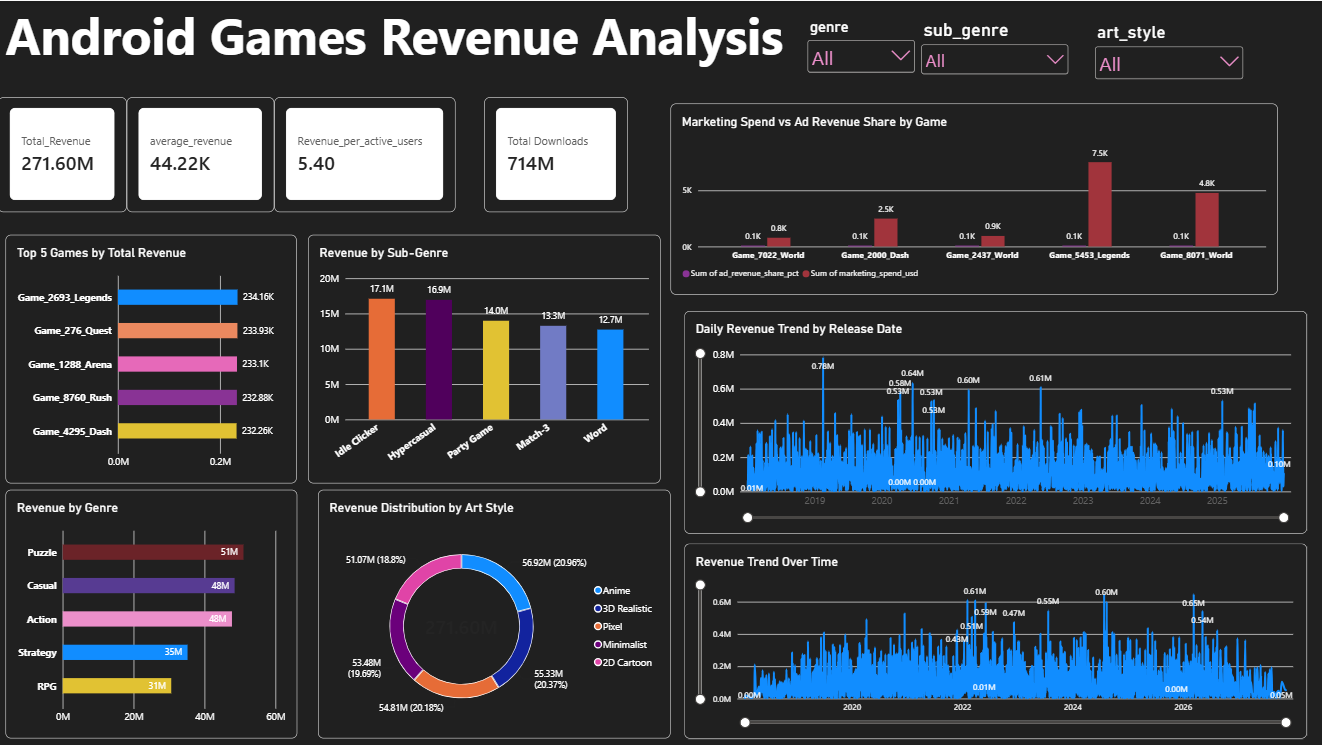

The page's visual inventory and layout, read from the dashboard file:
{"tool":"powerbi","page":{"name":"Page 1","canvas":[1920,1080],"ordinal":0},"visuals":[{"type":"textbox","box":[10.9,0,1303,121.2],"z":0},{"type":"cardVisual","fields":{"Data":["Sheet1.Total_Revenue"]},"box":[0,139.3,186.4,166.5],"z":1000},{"type":"cardVisual","fields":{"Data":["Sheet1.average_revenue"]},"box":[186.4,139.3,213.5,166.5],"z":2000},{"type":"cardVisual","fields":{"Data":["Sheet1.Revenue_per_download"]},"box":[399.9,139.3,262.4,166.5],"z":3000},{"type":"cardVisual","fields":{"Data":["Sheet1.Total Downloads"]},"box":[704,139.3,208.1,166.5],"z":4000},{"type":"barChart","title":"Top 5 Games by Total Revenue","fields":{"Category":["Sheet1.game_name"],"Y":["Sheet1.Total_Revenue"]},"box":[10.3,337.6,422,360.2],"z":5000},{"type":"barChart","title":"Revenue by Genre","fields":{"Category":["Sheet1.genre"],"Y":["Sum(Sheet1.total_revenue_usd)"]},"box":[10,708,422,360],"z":6000},{"type":"columnChart","title":"Revenue by Sub-Genre","fields":{"Category":["Sheet1.sub_genre"],"Y":["Sum(Sheet1.total_revenue_usd)"]},"box":[448.7,337.6,510.5,360.2],"z":7000},{"type":"donutChart","title":"Revenue Distribution by Art Style","fields":{"Category":["Sheet1.art_style"],"Y":["Sum(Sheet1.total_revenue_usd)"]},"box":[463.1,708.1,510,360],"z":8000},{"type":"lineChart","title":"Daily Revenue Trend by Release Date","fields":{"Category":["calendar.Release Date"],"Y":["Sum(Sheet1.total_revenue_usd)"]},"box":[993.5,448.8,901.2,322.1],"z":9000},{"type":"lineChart","title":"Revenue Trend Over Time","fields":{"Y":["Sheet1.Total_Revenue"],"Category":["Calendar1.Last_update_date.Variation.Date Hierarchy.Year","Calendar1.Last_update_date.Variation.Date Hierarchy.Quarter","Calendar1.Last_update_date.Variation.Date Hierarchy.Month","Calendar1.Last_update_date.Variation.Date Hierarchy.Day"]},"box":[993.5,785.4,901.2,282.3],"z":10000},{"type":"clusteredColumnChart","title":"Marketing Spend vs Ad Revenue Share by Game","fields":{"Category":["Sheet1.game_name"],"Y":["Sum(Sheet1.ad_revenue_share_pct)","Sum(Sheet1.marketing_spend_usd)"]},"box":[973.6,148.4,879.5,276.9],"z":11000},{"type":"slicer","fields":{"Values":["Sheet1.genre"]},"box":[1167.2,25.3,164.7,123.1],"z":12000},{"type":"slicer","fields":{"Values":["Sheet1.sub_genre"]},"box":[1331.9,25.3,222.6,105],"z":13000},{"type":"slicer","fields":{"Values":["Sheet1.art_style"]},"box":[1583.5,30.8,224.4,179.2],"z":14000}]}

Visuals, with their boxes in screenshot pixels (x1, y1, x2, y2), scaled from the page's 1920x1080 canvas onto the 1322x745 screenshot:
textbox: select_region(8, 0, 905, 84)
cardVisual - Sheet1.Total_Revenue: select_region(0, 96, 128, 211)
cardVisual - Sheet1.average_revenue: select_region(128, 96, 275, 211)
cardVisual - Sheet1.Revenue_per_download: select_region(275, 96, 456, 211)
cardVisual - Sheet1.Total Downloads: select_region(485, 96, 628, 211)
"Top 5 Games by Total Revenue" barChart: select_region(7, 233, 298, 481)
"Revenue by Genre" barChart: select_region(7, 488, 297, 737)
"Revenue by Sub-Genre" columnChart: select_region(309, 233, 660, 481)
"Revenue Distribution by Art Style" donutChart: select_region(319, 488, 670, 737)
"Daily Revenue Trend by Release Date" lineChart: select_region(684, 310, 1305, 532)
"Revenue Trend Over Time" lineChart: select_region(684, 542, 1305, 737)
"Marketing Spend vs Ad Revenue Share by Game" clusteredColumnChart: select_region(670, 102, 1276, 293)
slicer - Sheet1.genre: select_region(804, 17, 917, 102)
slicer - Sheet1.sub_genre: select_region(917, 17, 1070, 90)
slicer - Sheet1.art_style: select_region(1090, 21, 1245, 145)
